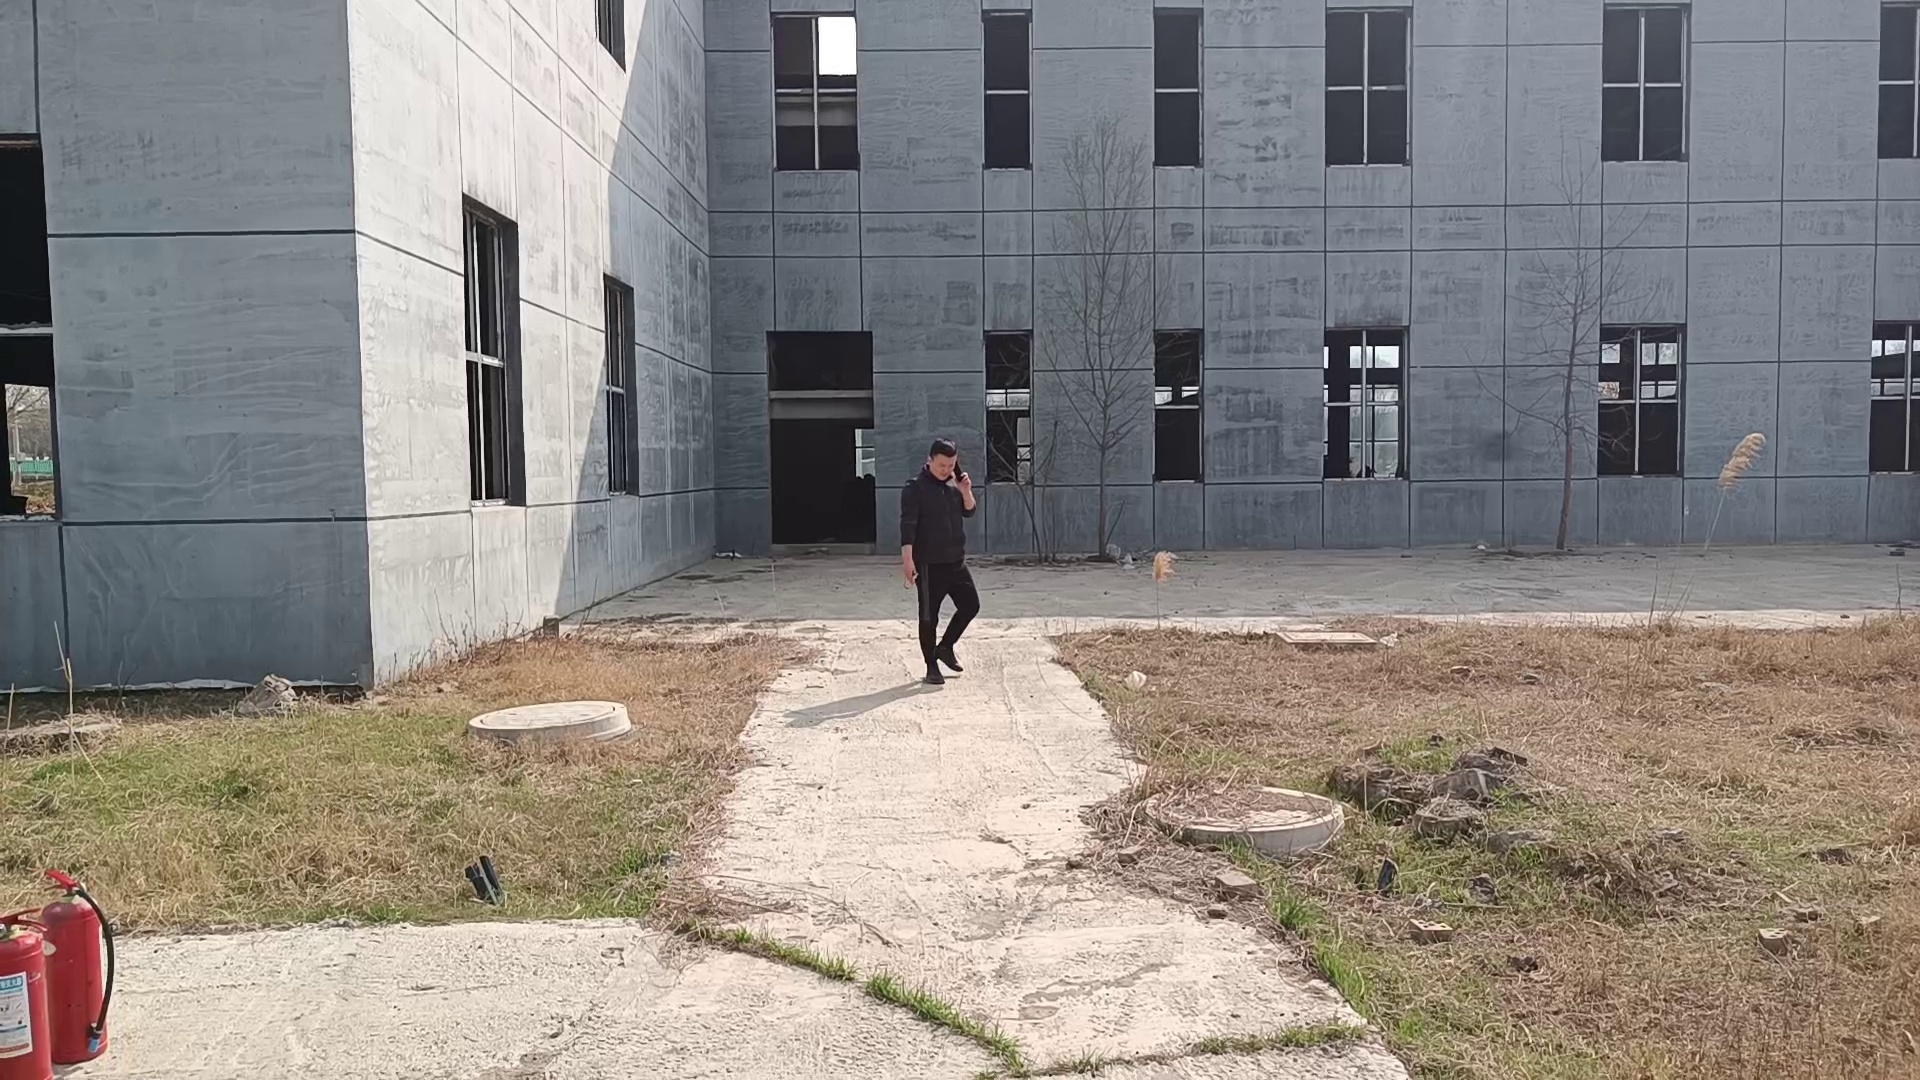phone: (923, 438, 972, 489)
